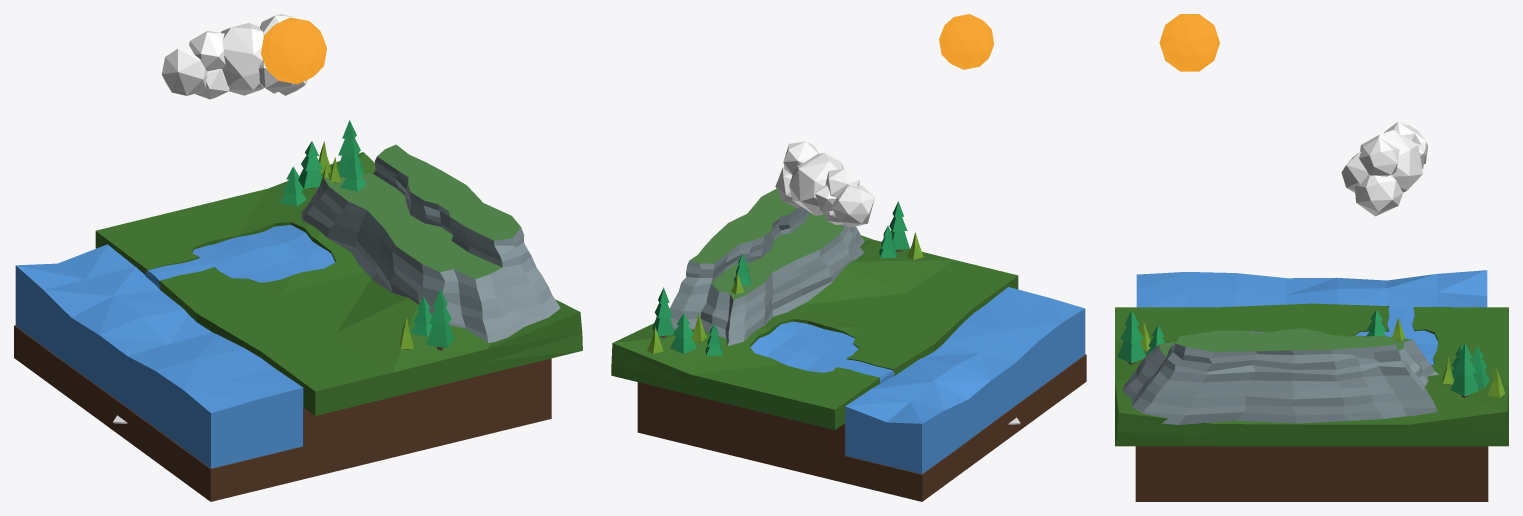
File: water_cycle_model.glb
3 views of the same model, side by side, from view 1: azimuth 30°, elevation 25°; view 2: azimuth 150°, elevation 25°; view 3: azimuth 270°, elevation 25° (orthographic). The views are drawn at different scales.
Visible parts, largest first — view 1: Base, Sea, Mountain, Cloud, Lake, Sun, Cube.009, Cube.005, Cube.006; view 2: Base, Sea, Mountain, Cloud, Lake, Sun, Cube.006, Cube.005, Cube.009; view 3: Base, Mountain, Sea, Cloud, Sun, Lake, Cube.006, Cube.009, Cube.005.
Part boxes in pixels (x1,y1,x2,y2): Base: [14, 152, 582, 501]; Sea: [15, 244, 303, 468]; Mountain: [301, 144, 560, 342]; Cloud: [161, 14, 307, 99]; Lake: [145, 225, 334, 289]; Sun: [261, 17, 326, 84]; Cube.009: [426, 289, 454, 350]; Cube.005: [298, 141, 322, 189]; Cube.006: [337, 120, 363, 177]; Base: [611, 235, 1086, 501]; Sea: [845, 287, 1085, 474]; Mountain: [669, 189, 864, 345]; Cloud: [775, 141, 874, 227]; Lake: [750, 321, 894, 383]; Sun: [939, 14, 994, 69]; Cube.006: [652, 287, 674, 338]; Cube.005: [670, 313, 696, 353]; Cube.009: [889, 201, 909, 251]; Base: [1115, 303, 1508, 501]; Mountain: [1122, 328, 1438, 424]; Sea: [1136, 270, 1487, 307]; Cloud: [1341, 121, 1428, 216]; Sun: [1159, 14, 1219, 71]; Lake: [1355, 307, 1437, 365]; Cube.006: [1450, 343, 1479, 397]; Cube.009: [1117, 310, 1145, 364]; Cube.005: [1471, 346, 1489, 388].
Size of the model in its own units: 6.58 by 7.27 by 6.7.
